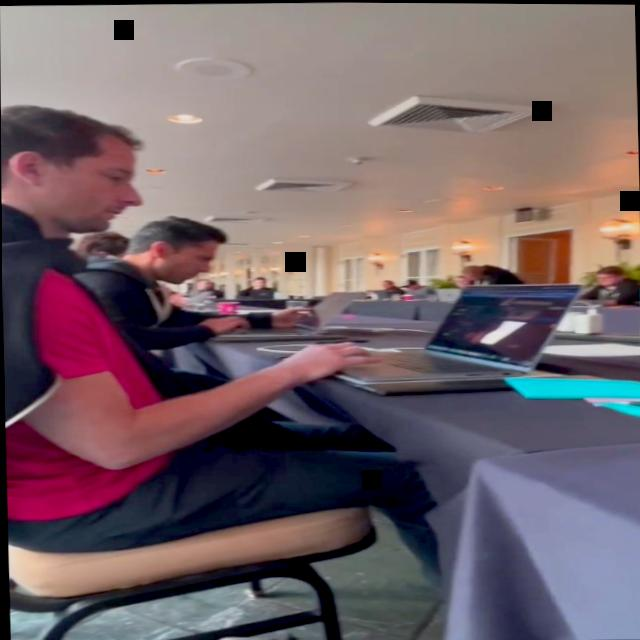NO-Mask: (35, 137, 142, 234), (157, 239, 219, 285), (595, 273, 615, 285), (253, 278, 265, 288), (456, 277, 468, 286), (199, 281, 211, 289), (464, 273, 480, 279), (381, 281, 390, 288), (407, 285, 416, 290)
